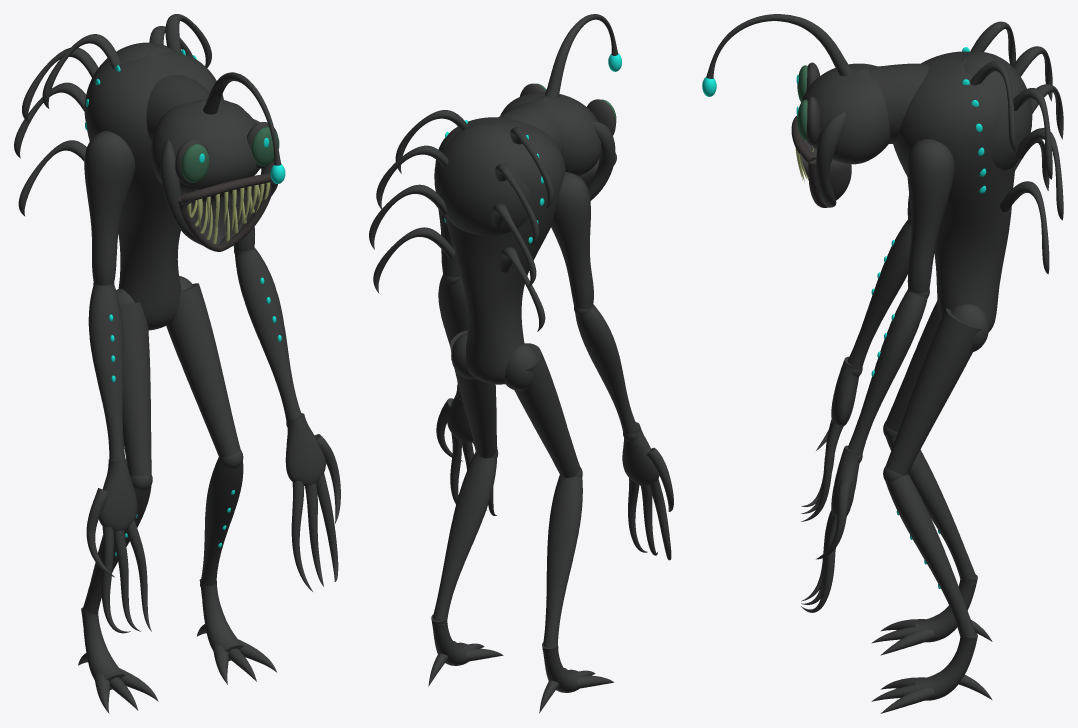
The model's file is monster.glb.
The picture shows the model from 3 angles, left to right: view 1: azimuth 30°, elevation 25°; view 2: azimuth 150°, elevation 25°; view 3: azimuth 270°, elevation 25°; orthographic projection. The views are drawn at different scales.
Parts seen in each view (by area): view 1: gaunt torso, cranium, thigh l, shoulder r, thigh r, long forearm r, long forearm l, reverse shin l, palm l, palm r, sloping neck, shadowed maw (+23 smaller); view 2: gaunt torso, hunched dorsal mantle, reverse shin r, reverse shin l, shoulder r, thigh r, cranium, long forearm r, thigh l, long forearm l, palm r, sloping neck (+23 smaller); view 3: gaunt torso, thigh l, cranium, shoulder l, reverse shin l, long forearm l, hunched dorsal mantle, long forearm r, reverse shin r, sloping neck, thigh r, angler antenna (+17 smaller).
Part boxes in pixels (x1=…): gaunt torso: x1=85, y1=50, x2=223, y2=330; cranium: x1=151, y1=98, x2=259, y2=193; thigh l: x1=166, y1=283, x2=240, y2=457; shoulder r: x1=84, y1=131, x2=135, y2=285; thigh r: x1=119, y1=302, x2=151, y2=476; long forearm r: x1=88, y1=285, x2=125, y2=460; long forearm l: x1=235, y1=248, x2=301, y2=421; reverse shin l: x1=200, y1=457, x2=243, y2=587; palm l: x1=285, y1=413, x2=325, y2=485; palm r: x1=99, y1=458, x2=137, y2=531; sloping neck: x1=146, y1=75, x2=209, y2=142; shadowed maw: x1=182, y1=179, x2=277, y2=244; gaunt torso: x1=435, y1=117, x2=565, y2=384; hunched dorsal mantle: x1=434, y1=122, x2=532, y2=235; reverse shin r: x1=542, y1=475, x2=582, y2=651; reverse shin l: x1=432, y1=452, x2=496, y2=625; shoulder r: x1=551, y1=172, x2=593, y2=308; thigh r: x1=514, y1=343, x2=580, y2=477; cranium: x1=500, y1=92, x2=601, y2=176; long forearm r: x1=575, y1=304, x2=637, y2=434; thigh l: x1=450, y1=330, x2=497, y2=458; long forearm l: x1=438, y1=276, x2=467, y2=393; palm r: x1=622, y1=422, x2=659, y2=485; sloping neck: x1=498, y1=101, x2=563, y2=154; gaunt torso: x1=893, y1=51, x2=1015, y2=332; thigh l: x1=885, y1=308, x2=981, y2=475; cranium: x1=801, y1=63, x2=890, y2=164; shoulder l: x1=907, y1=139, x2=954, y2=293; reverse shin l: x1=885, y1=473, x2=976, y2=643; long forearm l: x1=847, y1=290, x2=927, y2=455; hunched dorsal mantle: x1=964, y1=51, x2=1032, y2=169; long forearm r: x1=847, y1=220, x2=911, y2=369; reverse shin r: x1=885, y1=436, x2=976, y2=586; sloping neck: x1=868, y1=63, x2=928, y2=143; thigh r: x1=885, y1=300, x2=940, y2=431; angler antenna: x1=706, y1=14, x2=852, y2=78.
Size of the model in its own units: 807 by 1999 by 995.
